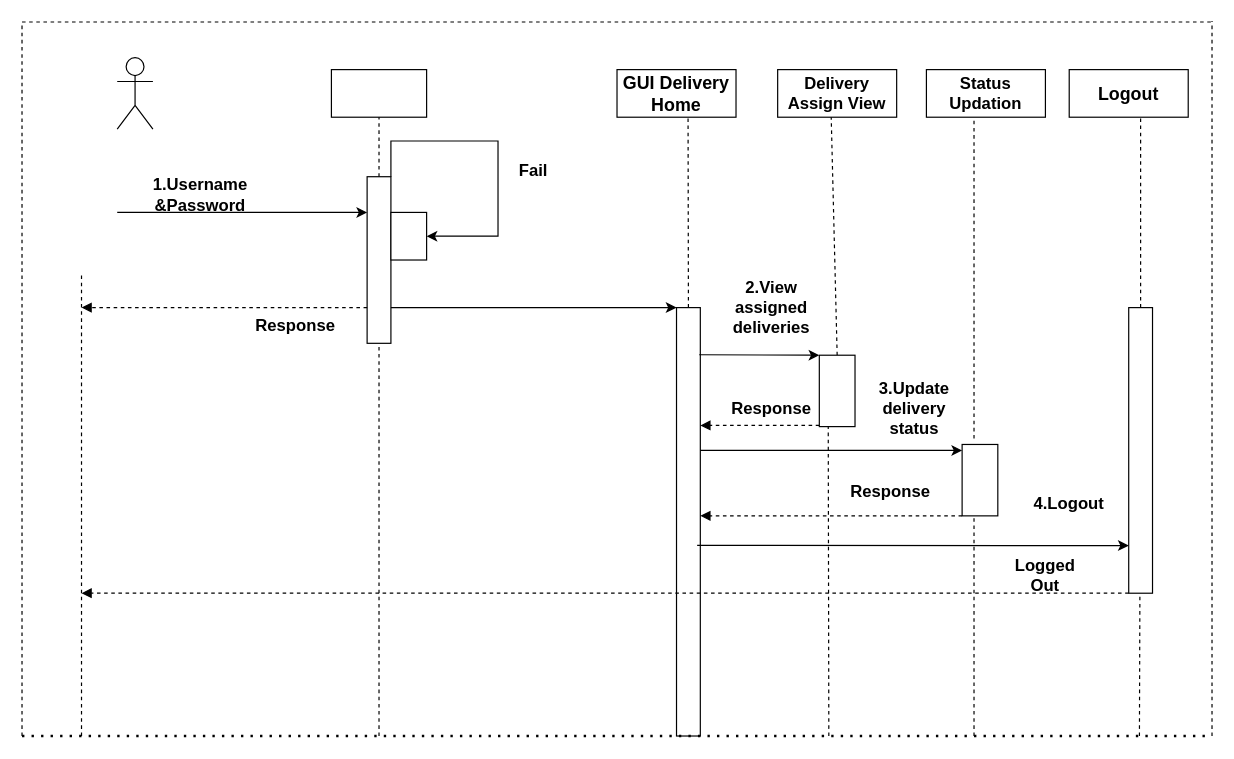
The diagram is 1234 pixels wide and 759 high, and some of its shapes have lost their labels. Each missing label, with the centre of its shape:
Delivery: the point at 134,93
Login: the point at 378,92
